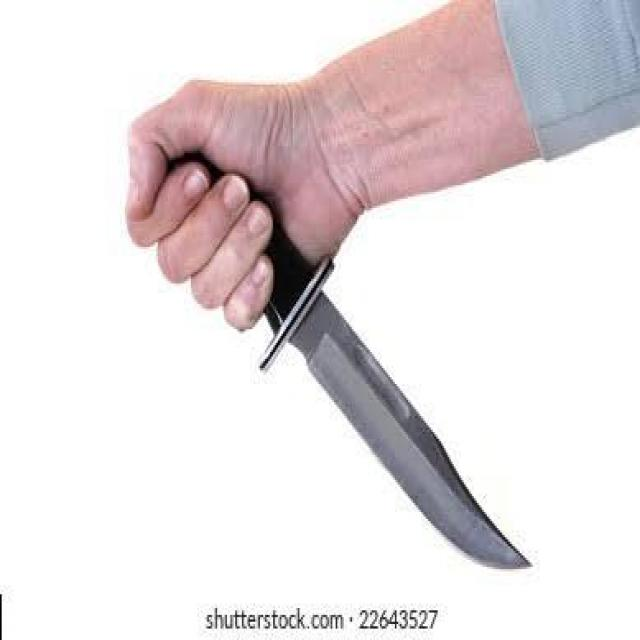knife: (262, 254, 532, 569)
